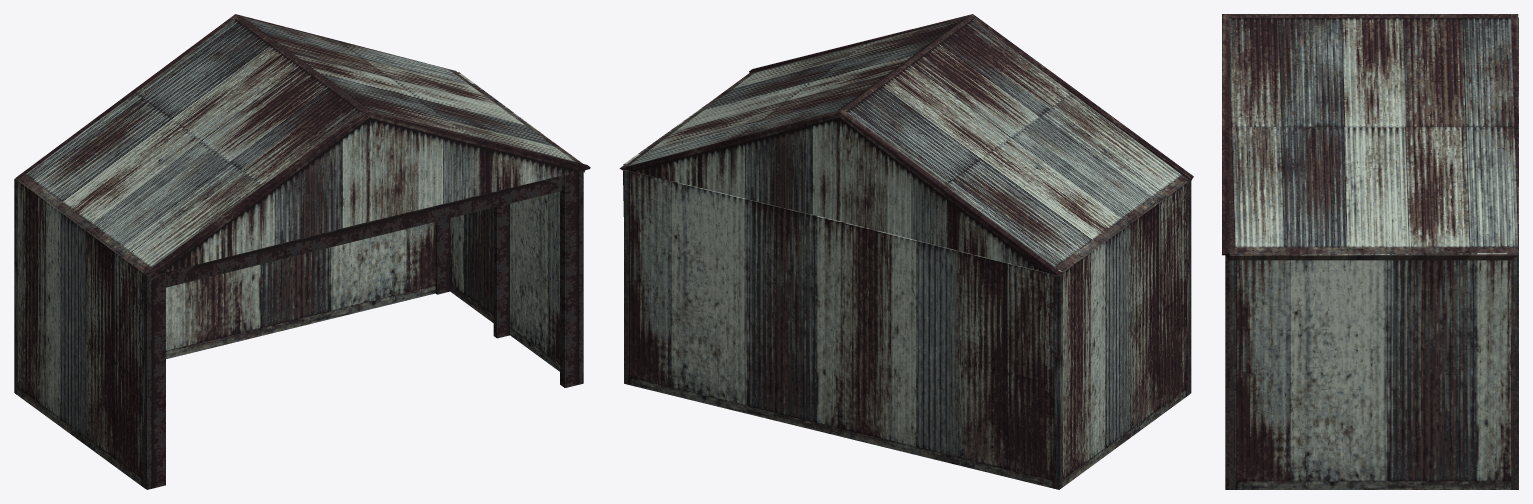
File: SM_EC_Barn_05.fbx
3 views of the same model, side by side, from view 1: azimuth 30°, elevation 25°; view 2: azimuth 150°, elevation 25°; view 3: azimuth 270°, elevation 25° (orthographic). The views are drawn at different scales.
Parts seen in each view (by area): view 1: SM_EC_Barn_05; view 2: SM_EC_Barn_05; view 3: SM_EC_Barn_05.
Part boxes in pixels (x1=…): SM_EC_Barn_05: x1=14, y1=14, x2=590, y2=489; SM_EC_Barn_05: x1=619, y1=14, x2=1193, y2=489; SM_EC_Barn_05: x1=1222, y1=14, x2=1518, y2=489.
Size of the model in its own units: 7.61 by 4 by 5.34.
